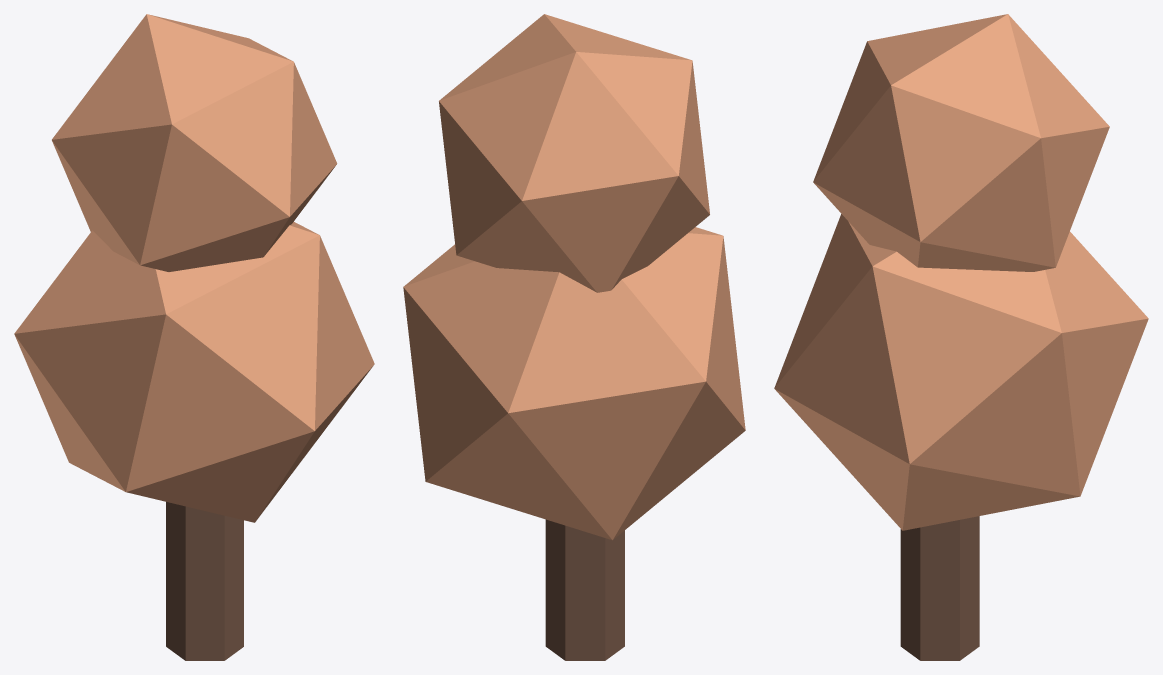
Rendered from Tree2.fbx.
3 views of the same model, side by side, from view 1: azimuth 30°, elevation 25°; view 2: azimuth 150°, elevation 25°; view 3: azimuth 270°, elevation 25° (orthographic).
Visible parts, largest first — view 1: Tree2; view 2: Tree2; view 3: Tree2.
Part boxes in pixels (left/top/right/bottom): Tree2: left=14, top=14, right=374, bottom=660; Tree2: left=403, top=14, right=745, bottom=660; Tree2: left=774, top=14, right=1148, bottom=660.
Size of the model in its own units: 98.96 by 188 by 103.
